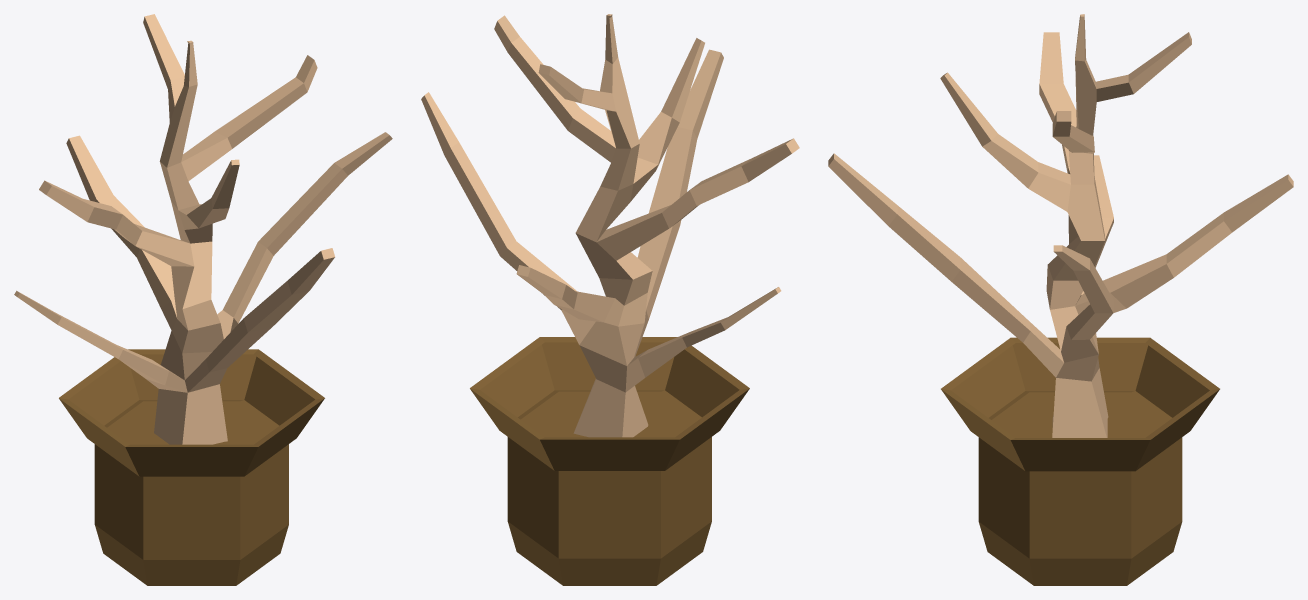
File: Plant.glb
3 renders of one model, left to right at view 1: azimuth 30°, elevation 25°; view 2: azimuth 150°, elevation 25°; view 3: azimuth 270°, elevation 25°, orthographic. The views are drawn at different scales.
Parts seen in each view (by area): view 1: Cube.001; view 2: Cube.001; view 3: Cube.001.
Part boxes in pixels (x1=…): Cube.001: x1=14, y1=14, x2=392, y2=585; Cube.001: x1=421, y1=14, x2=799, y2=585; Cube.001: x1=828, y1=14, x2=1293, y2=585.
Size of the model in its own units: 4.65 by 6.37 by 5.01.
